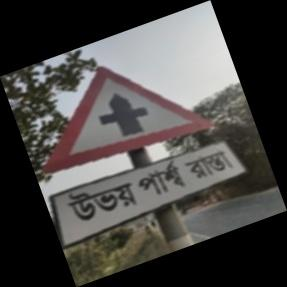Crossroad: (37, 53, 249, 230)
